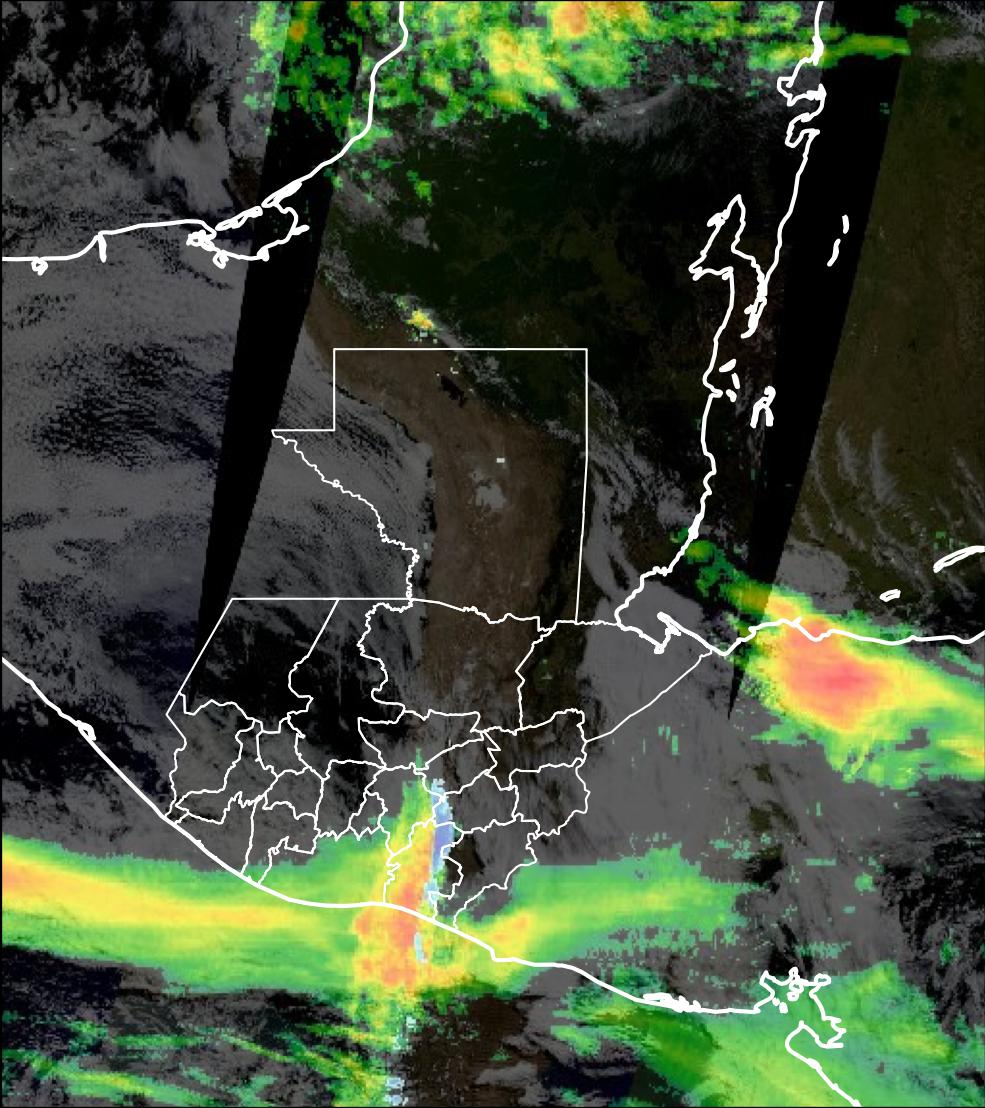precipitacion: (752, 599, 924, 744)
